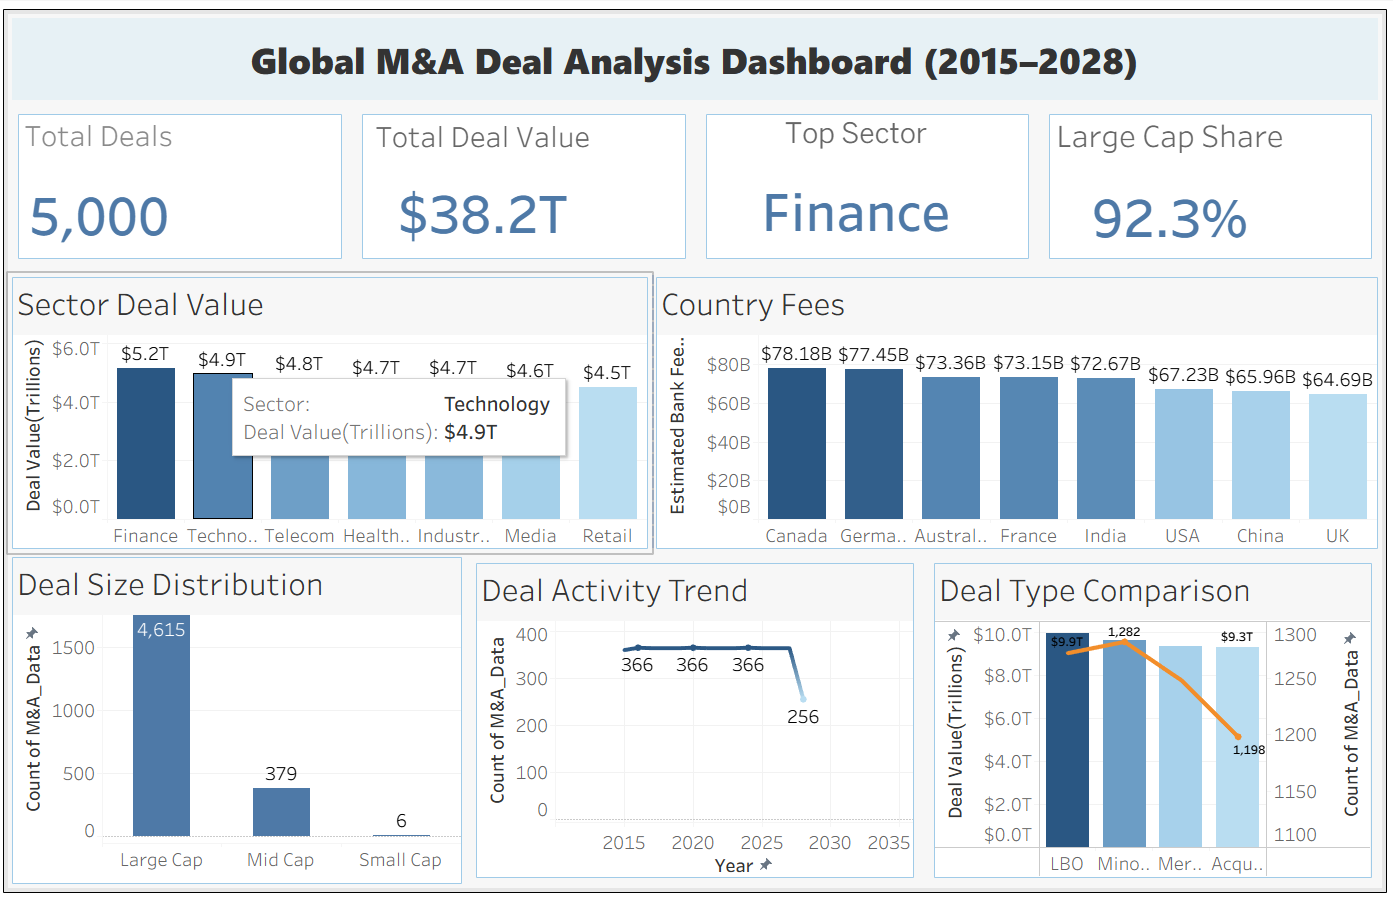

This screenshot's page, from the dashboard's own definition file:
{"tool":"tableau","page":{"name":"Global M&A Deal Analysis Dashboard (2015–2028)","canvas":[1400,900],"ordinal":0},"visuals":[{"type":"title","box":[13,13,1374,90]},{"type":"worksheet","title":"KPI2","mark":"Automatic","box":[13,103,344,165]},{"type":"worksheet","title":"KPI1","mark":"Automatic","box":[357,103,344,165]},{"type":"worksheet","title":"KPI3","mark":"Text","box":[701,103,343,165]},{"type":"worksheet","title":"KPI4","mark":"Automatic","box":[1044,103,343,165]},{"type":"worksheet","title":"Finance Leads Deal Value Across Sectors","mark":"Automatic","rows":["Calculation_1615782125813760"],"cols":["Sector"],"box":[13,272,644.2,280]},{"type":"worksheet","title":"Country-wise Investment Banking Fees","mark":"Automatic","rows":["Calculation_1615782141341698"],"cols":["Country"],"box":[657.2,272,729.8,280]},{"type":"worksheet","title":"Deal Size Distribution (Highly Skewed Towards Large Cap)","mark":"Bar","rows":["M&A!Data_72DA1A494A084294870B9806E8D05074"],"cols":["Deal Size Category"],"box":[13,552,458,335]},{"type":"worksheet","title":"Deal Activity Remains Stable with Slight Decline in 2028","mark":"Line","rows":["M&A!Data_72DA1A494A084294870B9806E8D05074"],"cols":["Year"],"box":[471,552,458,335]},{"type":"worksheet","title":"Deal Type Analysis: Value vs Volume Comparison","mark":"Automatic","rows":["Calculation_1615782125813760","M&A!Data_72DA1A494A084294870B9806E8D05074"],"cols":["Deal_Type"],"box":[929,552,458,335]}]}

Visuals, with their boxes in screenshot pixels (x1, y1, x2, y2), scaled from the page's 1400x900 canvas onto the 1393x900 screenshot:
title: <bbox>13, 13, 1380, 103</bbox>
"KPI2" worksheet: <bbox>13, 103, 355, 268</bbox>
"KPI1" worksheet: <bbox>355, 103, 697, 268</bbox>
"KPI3" worksheet (Text marks): <bbox>697, 103, 1039, 268</bbox>
"KPI4" worksheet: <bbox>1039, 103, 1380, 268</bbox>
"Finance Leads Deal Value Across Sectors" worksheet: <bbox>13, 272, 654, 552</bbox>
"Country-wise Investment Banking Fees" worksheet: <bbox>654, 272, 1380, 552</bbox>
"Deal Size Distribution (Highly Skewed Towards Large Cap)" worksheet (Bar marks): <bbox>13, 552, 469, 887</bbox>
"Deal Activity Remains Stable with Slight Decline in 2028" worksheet (Line marks): <bbox>469, 552, 924, 887</bbox>
"Deal Type Analysis: Value vs Volume Comparison" worksheet: <bbox>924, 552, 1380, 887</bbox>
